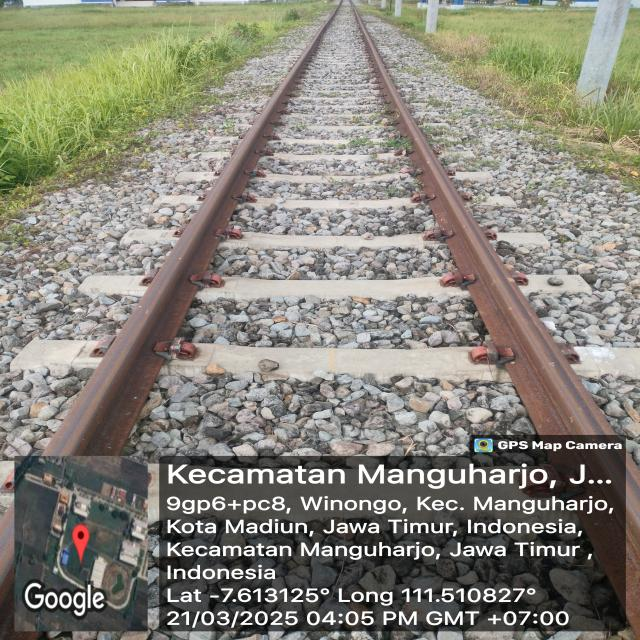rail-detection: (351, 6, 626, 609), (45, 5, 339, 455)
